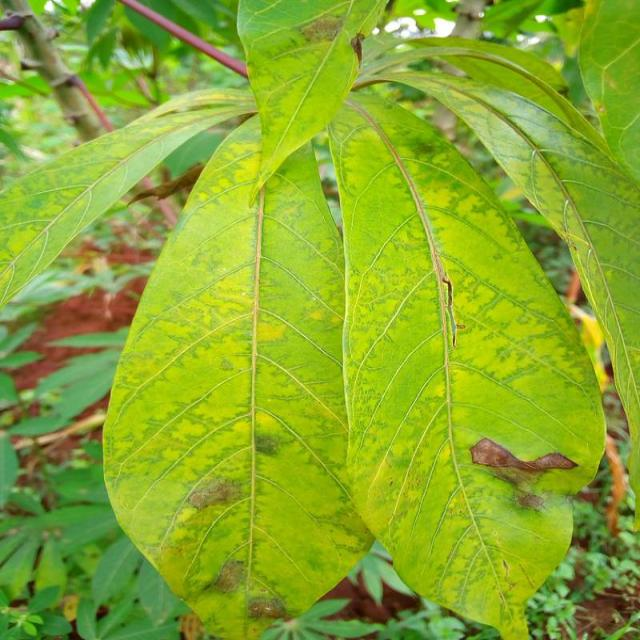cassava leaf: (326, 87, 607, 638), (101, 110, 376, 638)
